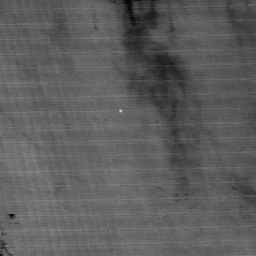Target: (118, 109, 124, 114)
